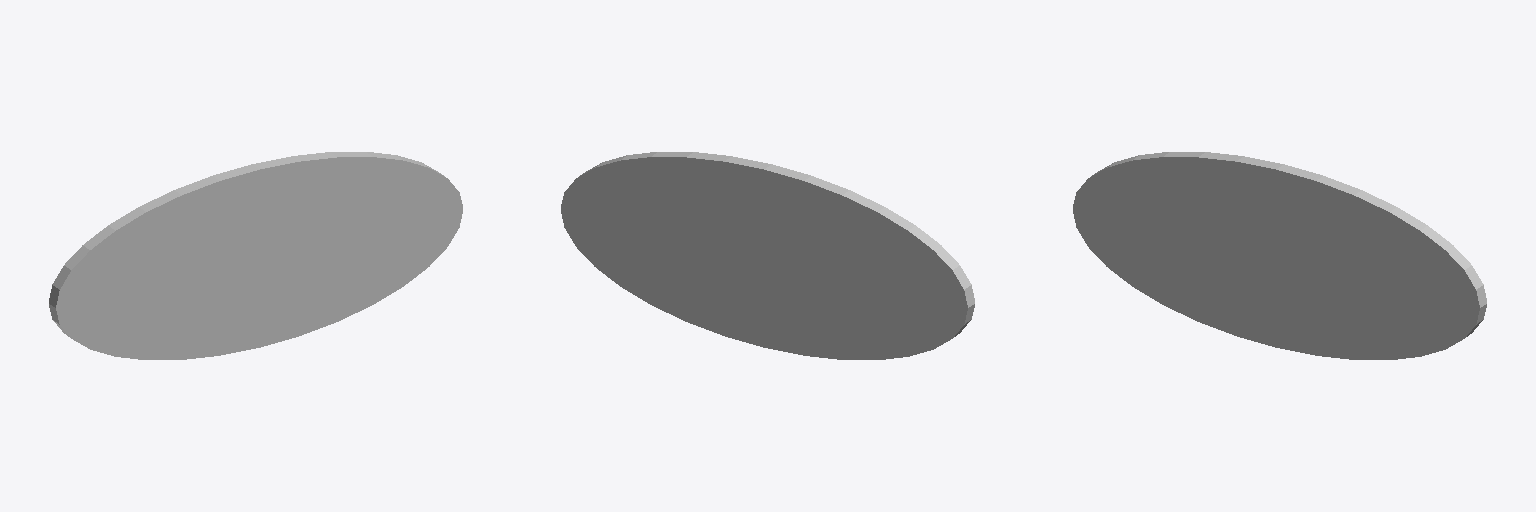
The model's file is mask.obj.
3 renders of one model, left to right at view 1: azimuth 30°, elevation 25°; view 2: azimuth 150°, elevation 25°; view 3: azimuth 330°, elevation 25°, orthographic.
Visible parts, largest first — view 1: Cylinder; view 2: Cylinder; view 3: Cylinder.
Boxes of the visible parts, x1,y1,x2,y2 form: Cylinder: [49, 152, 462, 359]; Cylinder: [561, 152, 974, 359]; Cylinder: [1073, 152, 1486, 359].
Size of the model in its own units: 1.76 by 0.7347 by 0.0556.